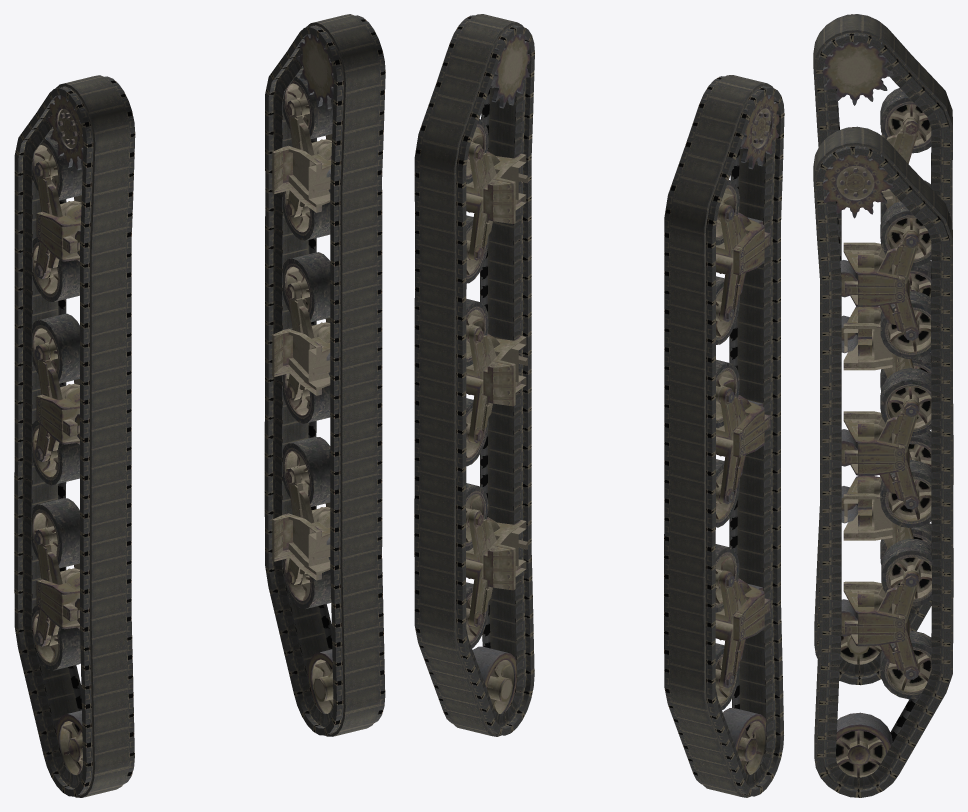
The model's file is Chassis.glb.
3 views of the same model, side by side, from view 1: azimuth 30°, elevation 25°; view 2: azimuth 150°, elevation 25°; view 3: azimuth 270°, elevation 25° (orthographic). The views are drawn at different scales.
Visible parts, largest first — view 1: set_0_group_0, set_1_group_0, set_2_group_0, set_3_group_0; view 2: set_0_group_0, set_1_group_0, set_2_group_0, set_3_group_0; view 3: set_2_group_0, set_1_group_0, set_3_group_0, set_0_group_0.
Boxes of the visible parts, x1=… form: set_0_group_0: x1=14, y1=75, x2=135, y2=797; set_1_group_0: x1=264, y1=14, x2=385, y2=736; set_2_group_0: x1=272, y1=15, x2=382, y2=713; set_3_group_0: x1=32, y1=76, x2=132, y2=774; set_0_group_0: x1=664, y1=75, x2=784, y2=797; set_1_group_0: x1=414, y1=14, x2=534, y2=736; set_2_group_0: x1=453, y1=15, x2=530, y2=713; set_3_group_0: x1=702, y1=76, x2=779, y2=774; set_2_group_0: x1=819, y1=127, x2=931, y2=777; set_1_group_0: x1=813, y1=126, x2=953, y2=797; set_3_group_0: x1=819, y1=34, x2=931, y2=664; set_0_group_0: x1=813, y1=14, x2=953, y2=685.
Size of the model in its own units: 2.66 by 5.92 by 1.15.
Materials: 4 (4 with a texture image).
